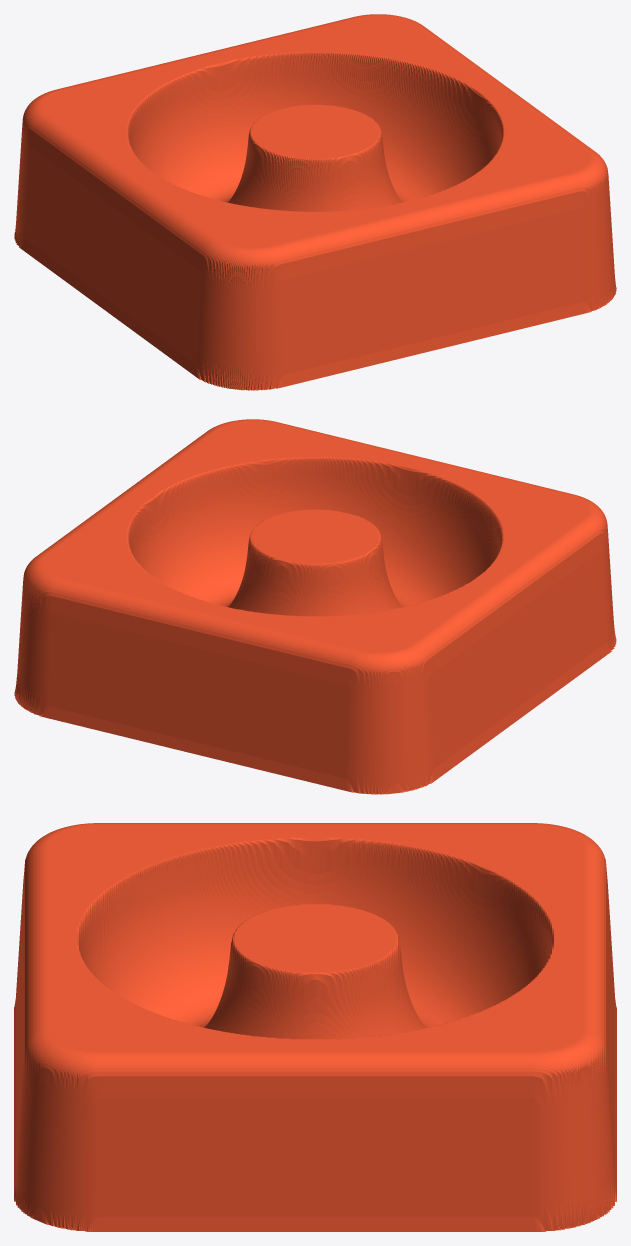
The model's file is mold.glb.
3 renders of one model, top to bottom at view 1: azimuth 30°, elevation 25°; view 2: azimuth 150°, elevation 25°; view 3: azimuth 270°, elevation 25°, orthographic. The views are drawn at different scales.
Parts seen in each view (by area): view 1: geometry_0; view 2: geometry_0; view 3: geometry_0.
Part boxes in pixels (x1,y1,x2,y2): geometry_0: [14, 14, 616, 390]; geometry_0: [14, 419, 616, 794]; geometry_0: [14, 823, 616, 1231].
Size of the model in its own units: 0.065 by 0.0197 by 0.065.
